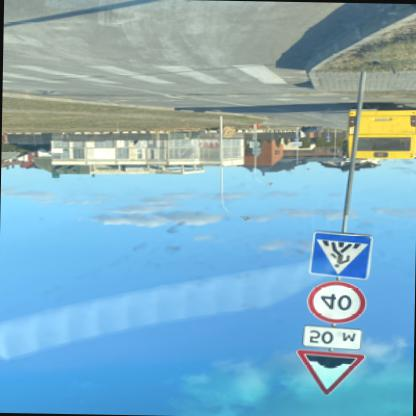crosswalk: (307, 232, 372, 281)
speedlimit: (306, 280, 365, 324)
